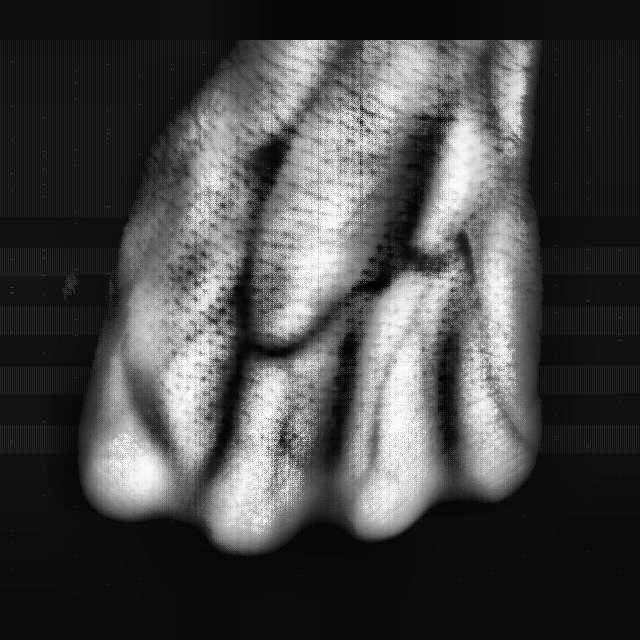Vein: (351, 105, 455, 303)
